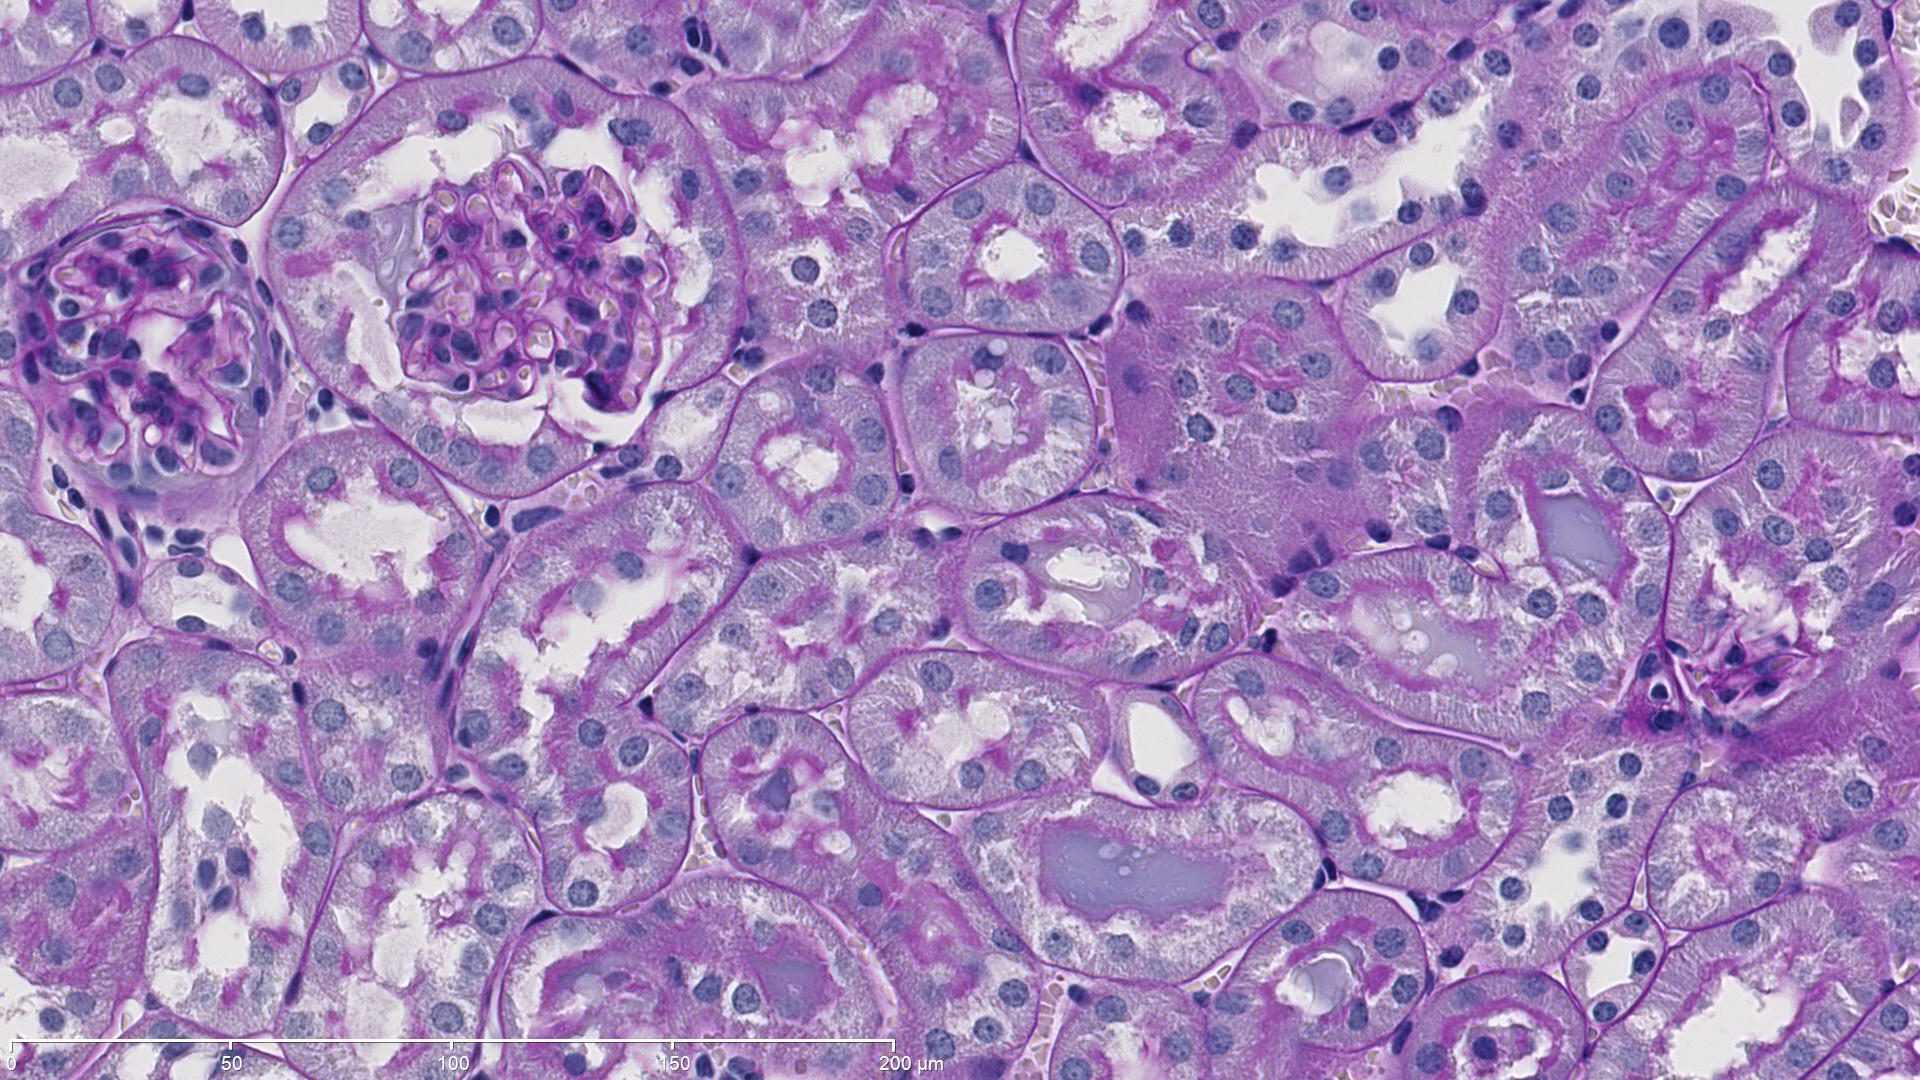Glomeruli: (363, 141, 679, 438), (3, 200, 297, 517)
